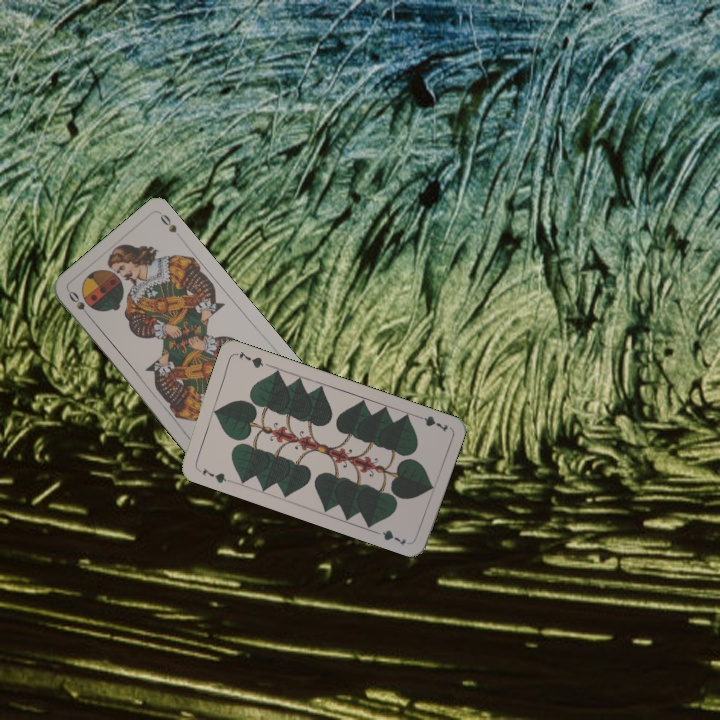G7: (411, 411, 450, 435), (193, 464, 233, 486)
SO: (64, 287, 94, 321)
